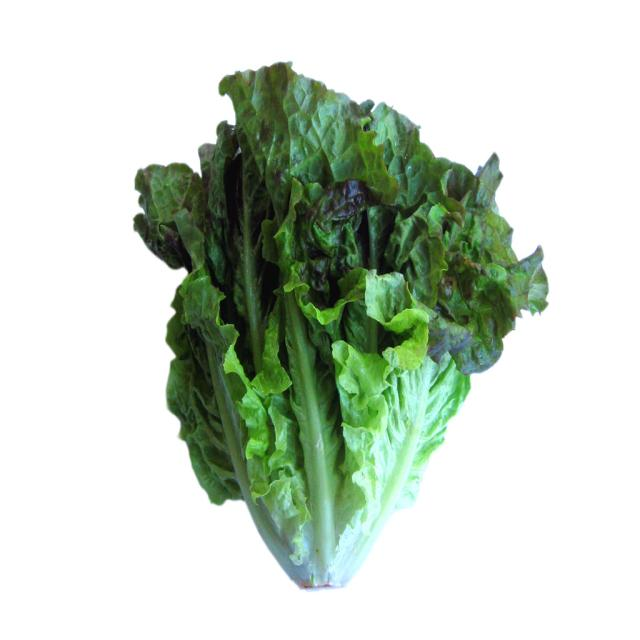Lettuce: (102, 39, 578, 598)
